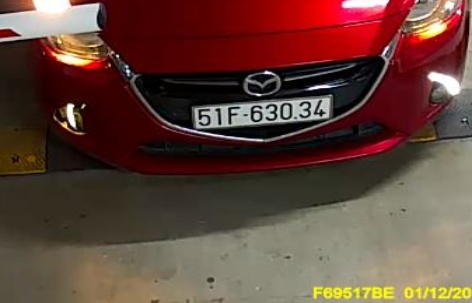plate: (188, 96, 333, 128)
